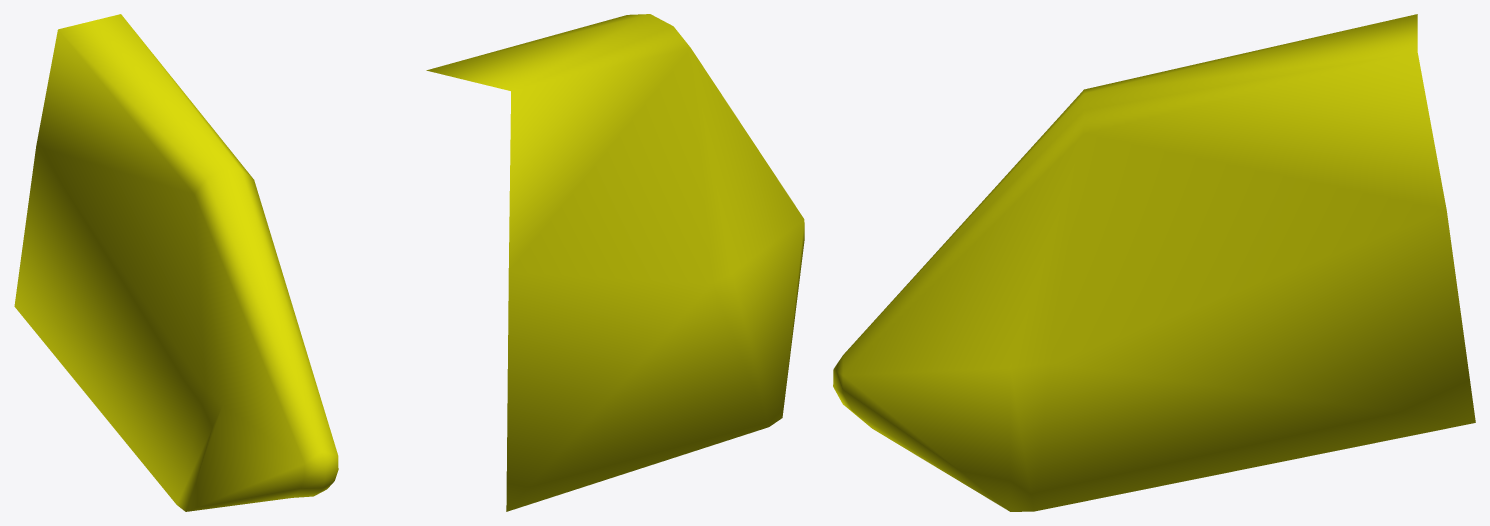
File: Nose_11.glb
3 renders of one model, left to right at view 1: azimuth 30°, elevation 25°; view 2: azimuth 150°, elevation 25°; view 3: azimuth 270°, elevation 25°, orthographic. The views are drawn at different scales.
Bounding box in the file's own units: 6.7 × 16.6 × 22.1.
